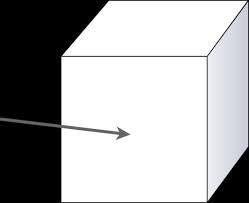cubos: (44, 1, 249, 203)
